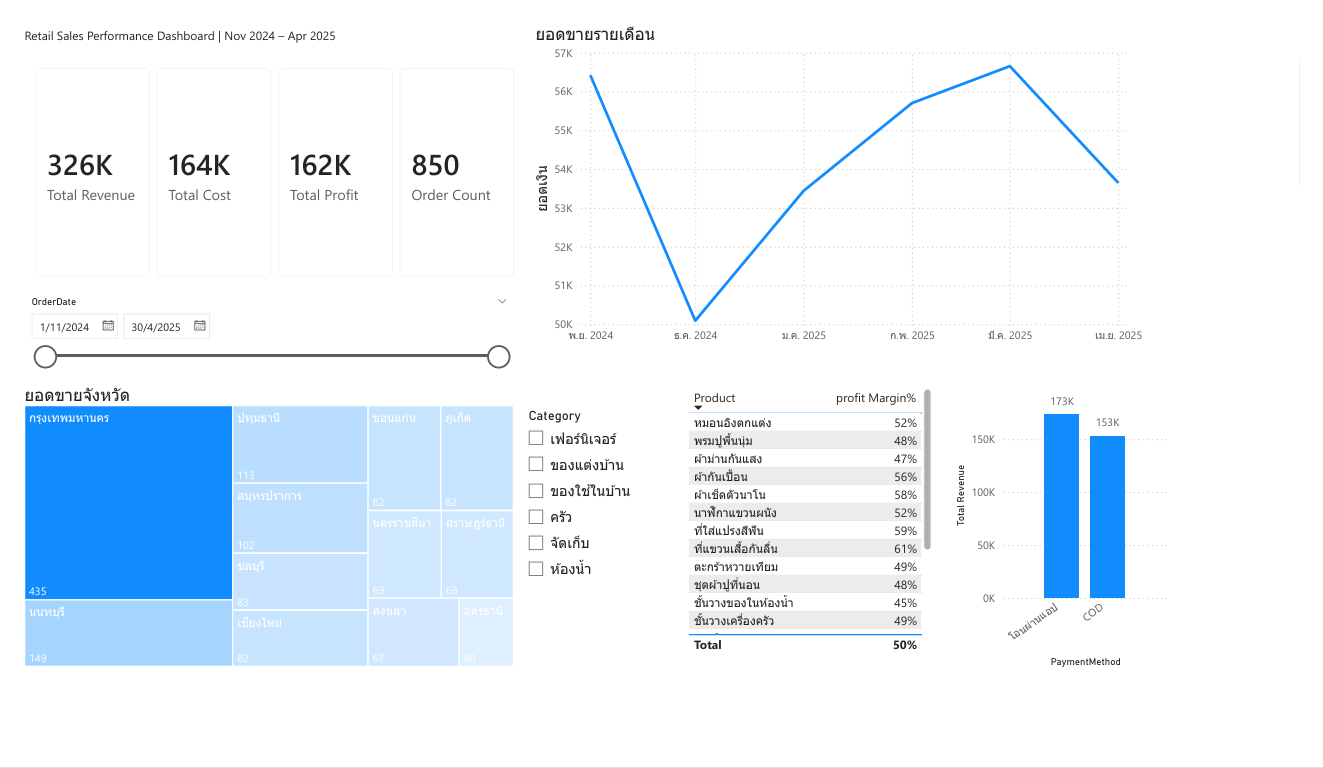

Layout of this report page (visuals, bound fields, positions):
{"tool":"powerbi","page":{"name":"Page 1","canvas":[1280,720],"ordinal":0},"visuals":[{"type":"lineChart","title":"ยอดขายรายเดือน","fields":{"Category":["homu_sales_data.OrderDate.Variation.Date Hierarchy.Year","homu_sales_data.OrderDate.Variation.Date Hierarchy.Month"],"Y":["homu_sales_data.Total Revenue"]},"box":[567.8,0,684.4,377.8],"z":0},{"type":"tableEx","fields":{"Values":["homu_sales_data.Product","homu_sales_data.profit Margin%"]},"box":[737.8,401.1,280,303.3],"z":1000},{"type":"treemap","title":"ยอดขายจังหวัด","fields":{"Group":["homu_sales_data.Province"],"Values":["Sum(homu_sales_data.Quantity)"]},"box":[0,401.1,553.3,318.9],"z":2000},{"type":"lineClusteredColumnComboChart","fields":{"Category":["homu_sales_data.PaymentMethod"],"Y":["homu_sales_data.Total Revenue"]},"box":[1034.4,396.7,245.6,323.3],"z":3000},{"type":"cardVisual","fields":{"Data":["homu_sales_data.Total Revenue","homu_sales_data.Total Cost","homu_sales_data.Total Profit","homu_sales_data.Order Count"]},"box":[0,33.3,567.8,265.6],"z":4000},{"type":"slicer","fields":{"Values":["homu_sales_data.Category"]},"box":[552.2,423.3,175.6,290],"z":5000},{"type":"slicer","fields":{"Values":["homu_sales_data.OrderDate"]},"box":[0,298.9,553.3,102.2],"z":5001},{"type":"textbox","box":[0,0,363.3,33.3],"z":5002}]}

Visuals, with their boxes on the page's 1280x720 design canvas (x1, y1, x2, y2). These are canvas units, not pixel positions in the 1323x768 screenshot, which may show the page scaled, cropped or inside an application window:
"ยอดขายรายเดือน" lineChart: bbox=(568, 0, 1252, 378)
tableEx - homu_sales_data.Product x homu_sales_data.profit Margin%: bbox=(738, 401, 1018, 704)
"ยอดขายจังหวัด" treemap: bbox=(0, 401, 553, 720)
lineClusteredColumnComboChart - homu_sales_data.PaymentMethod x homu_sales_data.Total Revenue: bbox=(1034, 397, 1280, 720)
cardVisual - homu_sales_data.Total Revenue x homu_sales_data.Total Cost: bbox=(0, 33, 568, 299)
slicer - homu_sales_data.Category: bbox=(552, 423, 728, 713)
slicer - homu_sales_data.OrderDate: bbox=(0, 299, 553, 401)
textbox: bbox=(0, 0, 363, 33)
